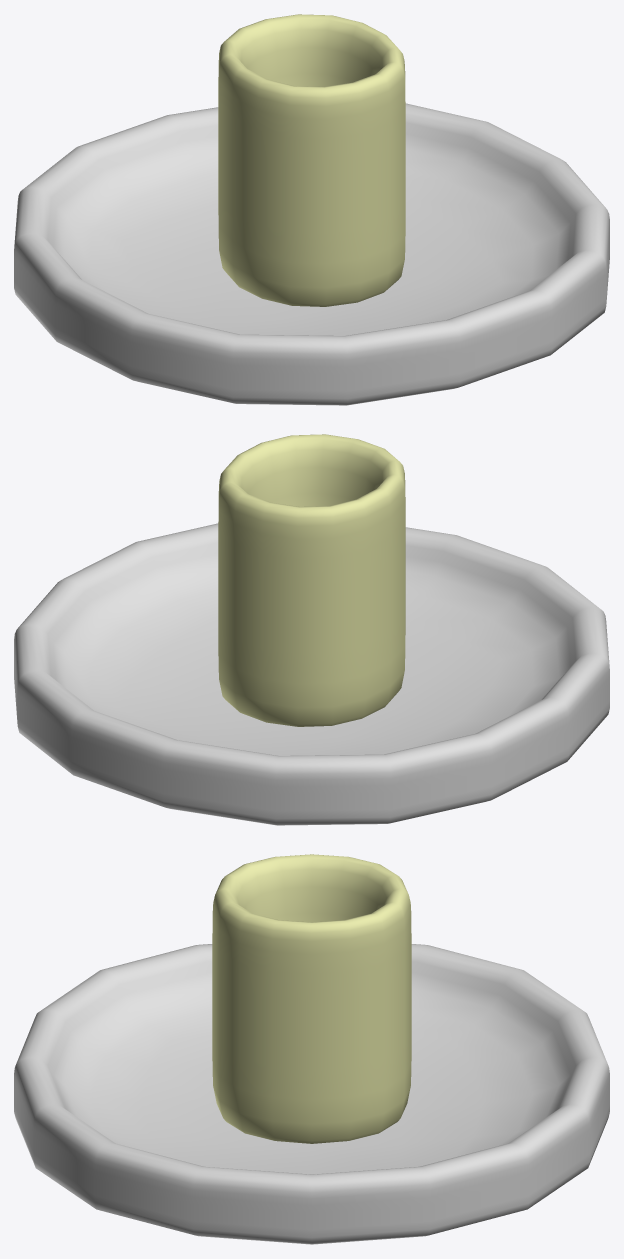
File: plate.fbx
The picture shows the model from 3 angles, top to bottom: view 1: azimuth 30°, elevation 25°; view 2: azimuth 150°, elevation 25°; view 3: azimuth 270°, elevation 25°; orthographic projection.
Parts seen in each view (by area): view 1: Cube.001, Cube.003; view 2: Cube.001, Cube.003; view 3: Cube.001, Cube.003.
Part boxes in pixels (<box>): Cube.001: <box>14,103,609,405</box>; Cube.003: <box>218,14,405,306</box>; Cube.001: <box>14,523,609,825</box>; Cube.003: <box>218,434,405,726</box>; Cube.001: <box>14,944,609,1244</box>; Cube.003: <box>212,854,411,1143</box>.
Size of the model in its own units: 219 by 99.38 by 219.
